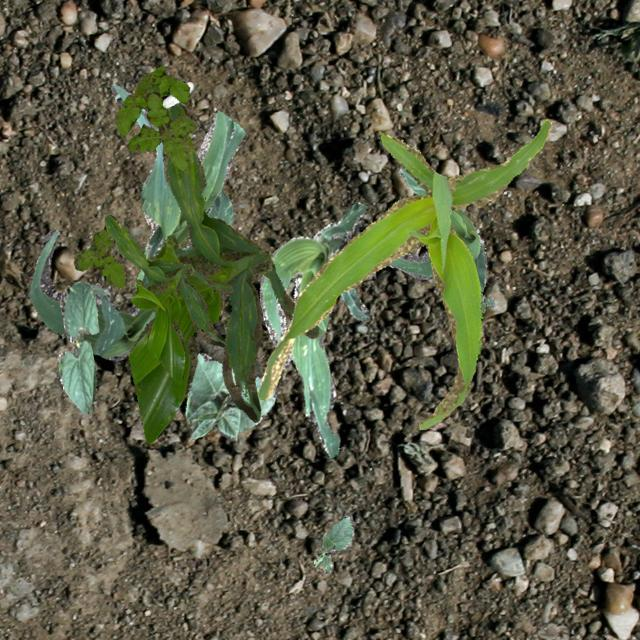crop: (256, 119, 552, 428), (128, 104, 318, 442), (28, 188, 232, 360), (258, 202, 368, 456), (110, 81, 246, 282), (104, 214, 232, 383), (386, 166, 486, 290), (184, 352, 276, 440), (56, 280, 98, 412), (312, 514, 352, 572)
weed: (114, 66, 196, 170), (73, 224, 127, 292), (478, 290, 494, 312)
